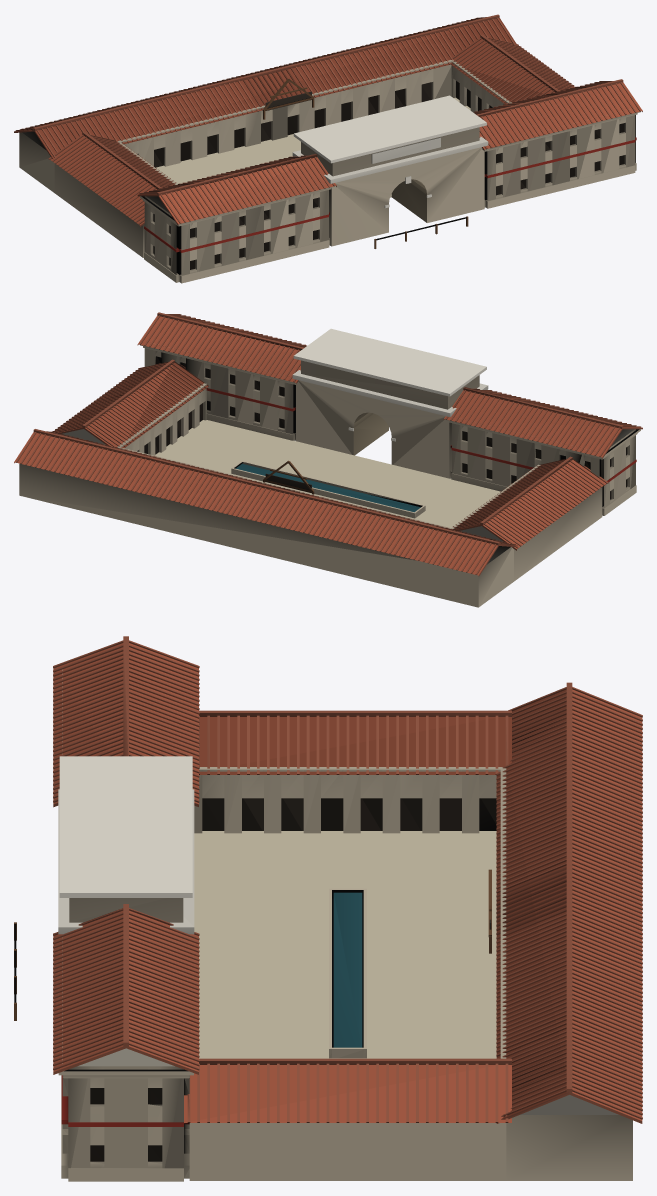
The model's file is rome_vatican_stables.glb.
3 views of the same model, one above another, from view 1: azimuth 30°, elevation 25°; view 2: azimuth 150°, elevation 25°; view 3: azimuth 270°, elevation 25° (orthographic). The views are drawn at different scales.
Parts seen in each view (by area): view 1: rome_vatican_stables; view 2: rome_vatican_stables; view 3: rome_vatican_stables.
Part boxes in pixels (x1,y1,x2,y2): rome_vatican_stables: [14, 14, 642, 283]; rome_vatican_stables: [14, 312, 642, 607]; rome_vatican_stables: [14, 636, 642, 1181].
Size of the model in its own units: 61.27 by 10.85 by 39.73.
